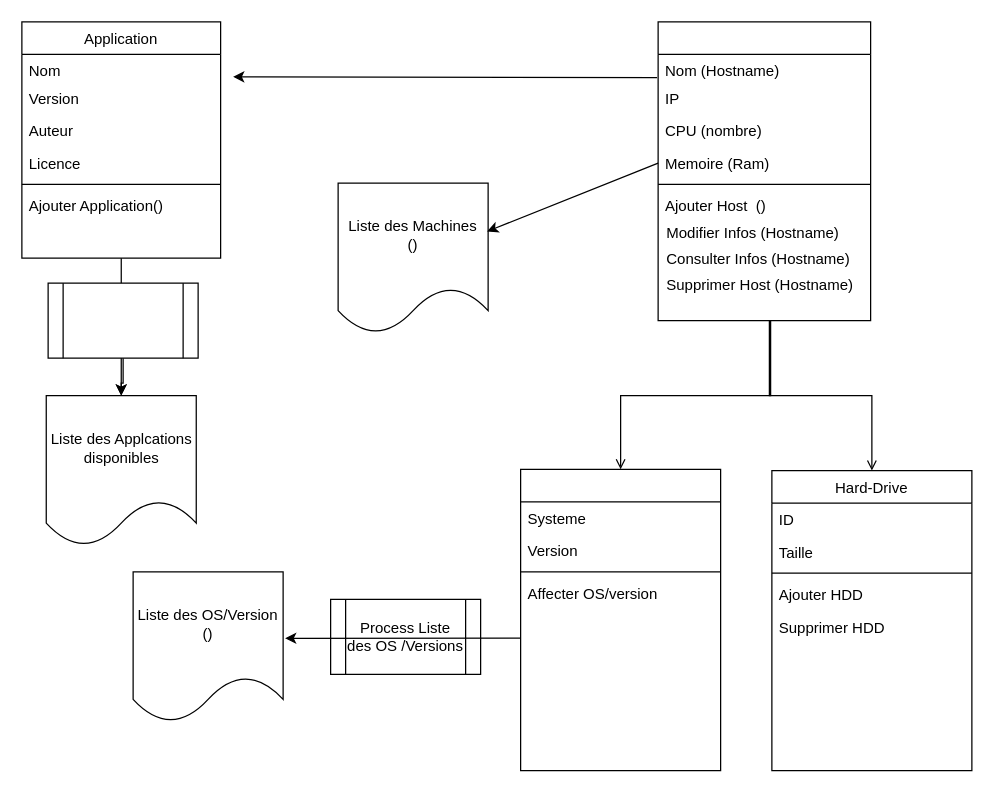
Some shapes in this 994 by 793 pixel diagram are drawn without their labels. Here are the shapes that lost their labels. From the top down, the box of each, then its label:
(657, 21, 871, 321): Machine
(47, 282, 198, 358): Process Liste desApplcations disponibles (API)
(519, 468, 721, 771): OS
